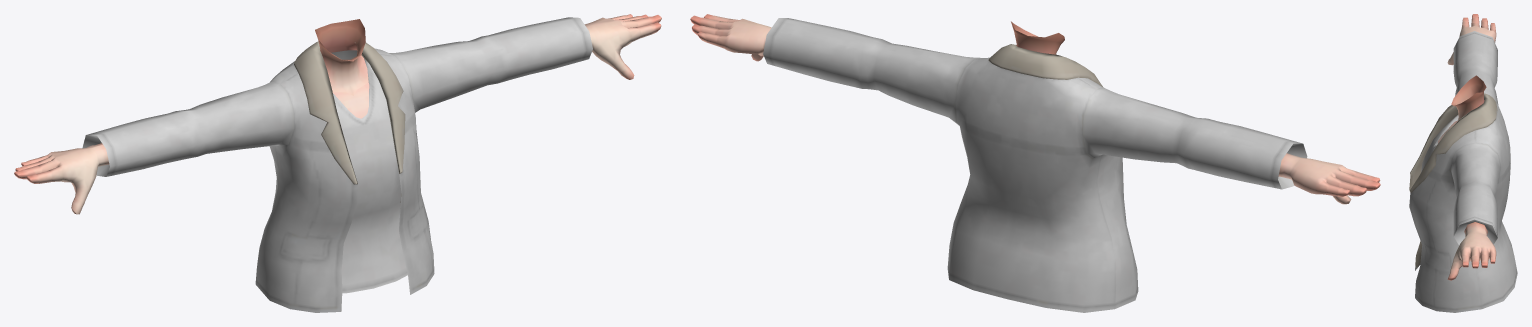
File: tr0860_00_upb03.gltf
3 views of the same model, side by side, from view 1: azimuth 30°, elevation 25°; view 2: azimuth 150°, elevation 25°; view 3: azimuth 270°, elevation 25° (orthographic). The views are drawn at different scales.
Parts seen in each view (by area): view 1: upb03_upperbody_mesh_shape:upperbody03, upb03_upperskin_mesh_shape:upperbody03_skin; view 2: upb03_upperbody_mesh_shape:upperbody03, upb03_upperskin_mesh_shape:upperbody03_skin; view 3: upb03_upperbody_mesh_shape:upperbody03, upb03_upperskin_mesh_shape:upperbody03_skin.
Part boxes in pixels (x1,y1,x2,y2): upb03_upperbody_mesh_shape:upperbody03: [82, 17, 592, 312]; upb03_upperskin_mesh_shape:upperbody03_skin: [14, 14, 661, 214]; upb03_upperbody_mesh_shape:upperbody03: [763, 18, 1307, 312]; upb03_upperskin_mesh_shape:upperbody03_skin: [690, 14, 1380, 204]; upb03_upperbody_mesh_shape:upperbody03: [1409, 31, 1517, 312]; upb03_upperskin_mesh_shape:upperbody03_skin: [1438, 14, 1496, 280].
Size of what is drawn, in the model's own units: 1.63 by 0.6057 by 0.2966.
2 materials, 2 textured.
